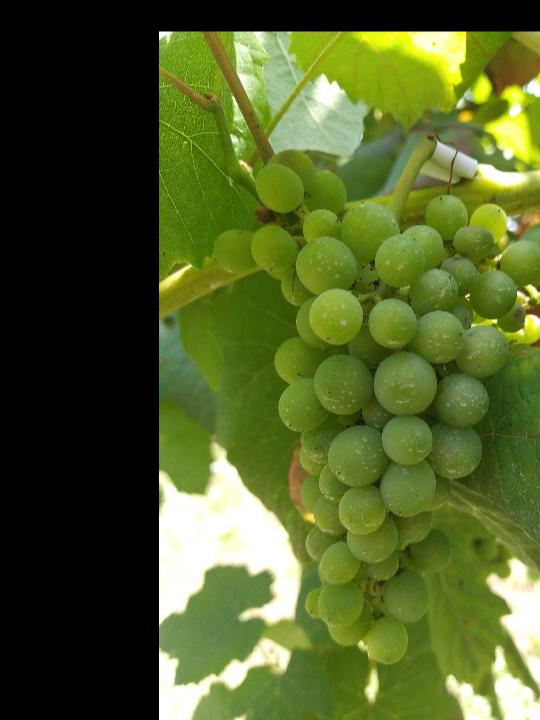grape: (208, 146, 540, 674)
